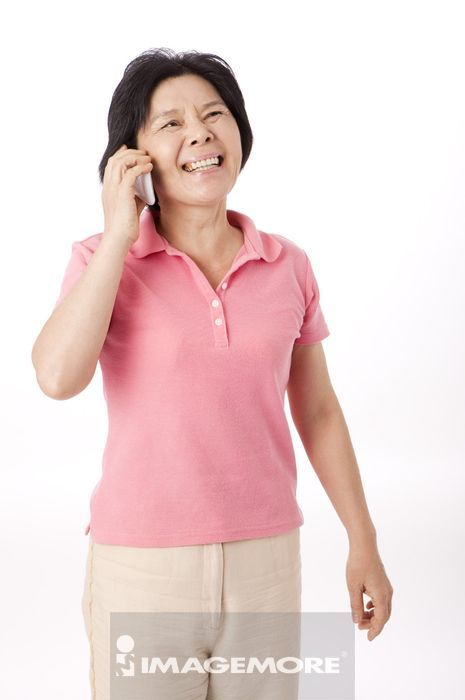phone: (121, 159, 160, 211)
talk: (91, 98, 240, 239)
